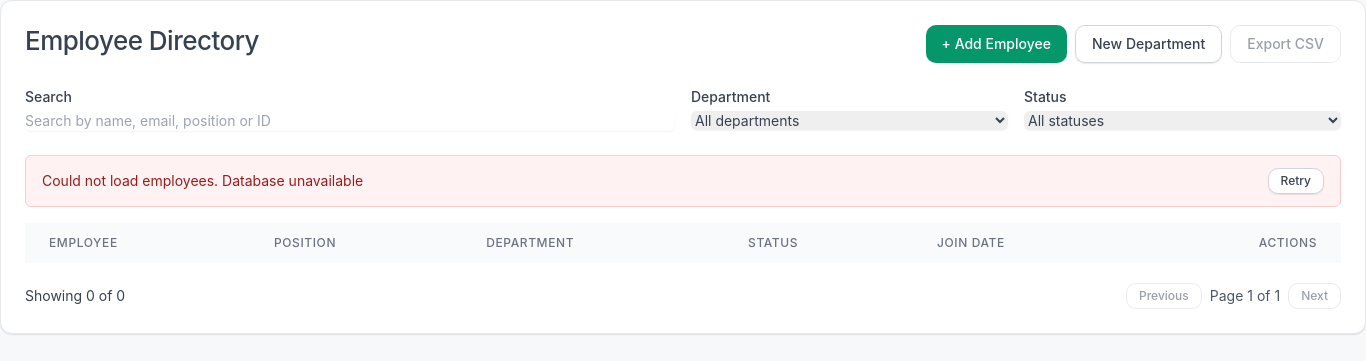
Test: Employees page › shows the error and retries
The width and height of the screenshot is (1366, 361).
Expected: the message reads "Could not load employees. Database unavailable Retry", [25,155,1341,207]
What coordinates should you click on to do the following:
click the button "Retry"
I would click on:
 (1296, 181)
Its box is [1268,168,1324,194].
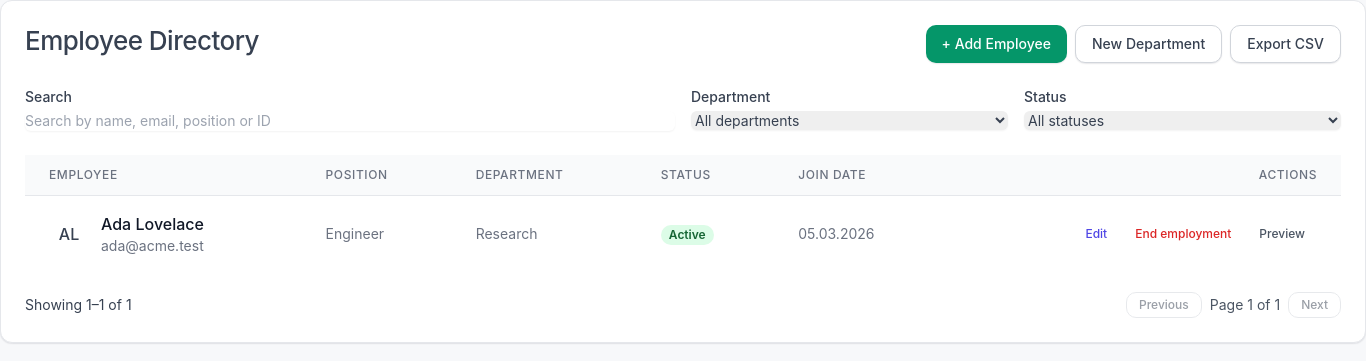
Expected: the text "Ada Lovelace" is shown, [101,212,204,236]
Expected: the message "Could not load employees. Database unavailable Retry" is gone
